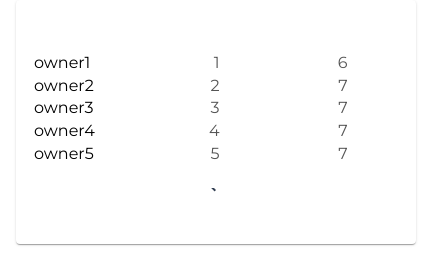
Test case: GroupedSummaryComponent › should only show all entries after click on the expand arrow
This screenshot has width=434, height=263.
Click the button with class "arrow" at (216, 190), box [192,166,240,214]
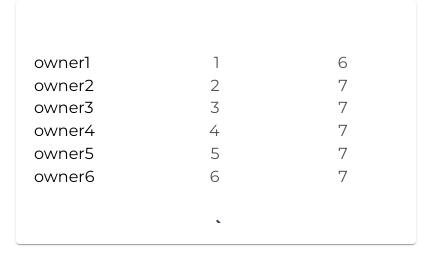
expect the number of cells with class "label-value" is 6: met, box [34,52,142,73]; [34,75,142,96]; [34,98,142,118]; [34,120,142,141]; [34,143,142,164]; [34,166,142,187]
